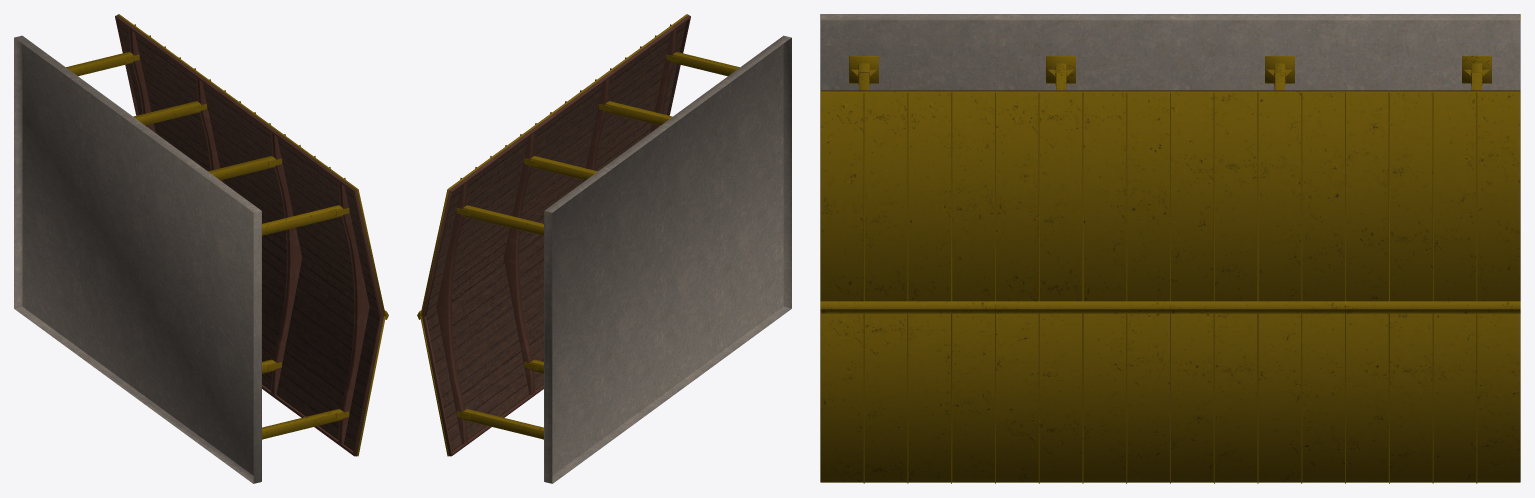
The model's file is cP_Shelter01.dae.
The picture shows the model from 3 angles, left to right: view 1: azimuth 30°, elevation 25°; view 2: azimuth 150°, elevation 25°; view 3: azimuth 270°, elevation 25°; orthographic projection. The views are drawn at different scales.
Parts seen in each view (by area): view 1: cP_Shelter01.001; view 2: cP_Shelter01.001; view 3: cP_Shelter01.001.
Part boxes in pixels (left/top/right/bottom): cP_Shelter01.001: left=14, top=14, right=388, bottom=483; cP_Shelter01.001: left=417, top=14, right=791, bottom=483; cP_Shelter01.001: left=820, top=14, right=1520, bottom=483.
Bounding box in the file's own units: 5.22 × 16 × 10.
